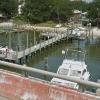Boat: (50, 45, 91, 100)
